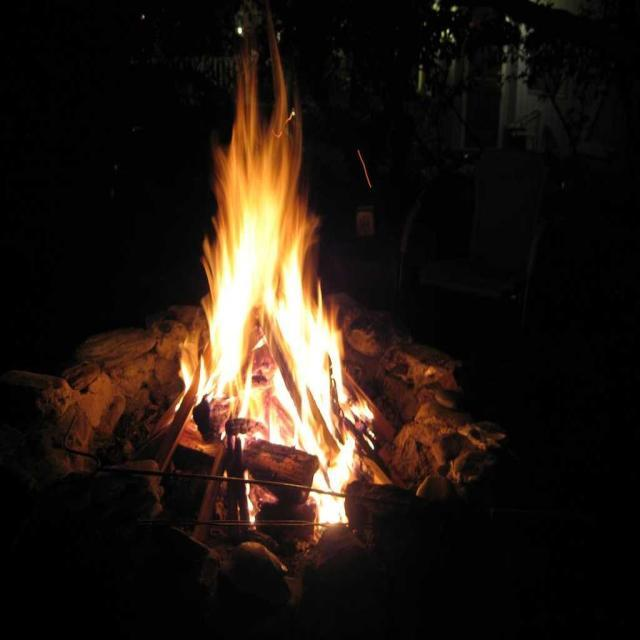Fire: (226, 216, 278, 306), (286, 302, 324, 384), (214, 315, 242, 383)
